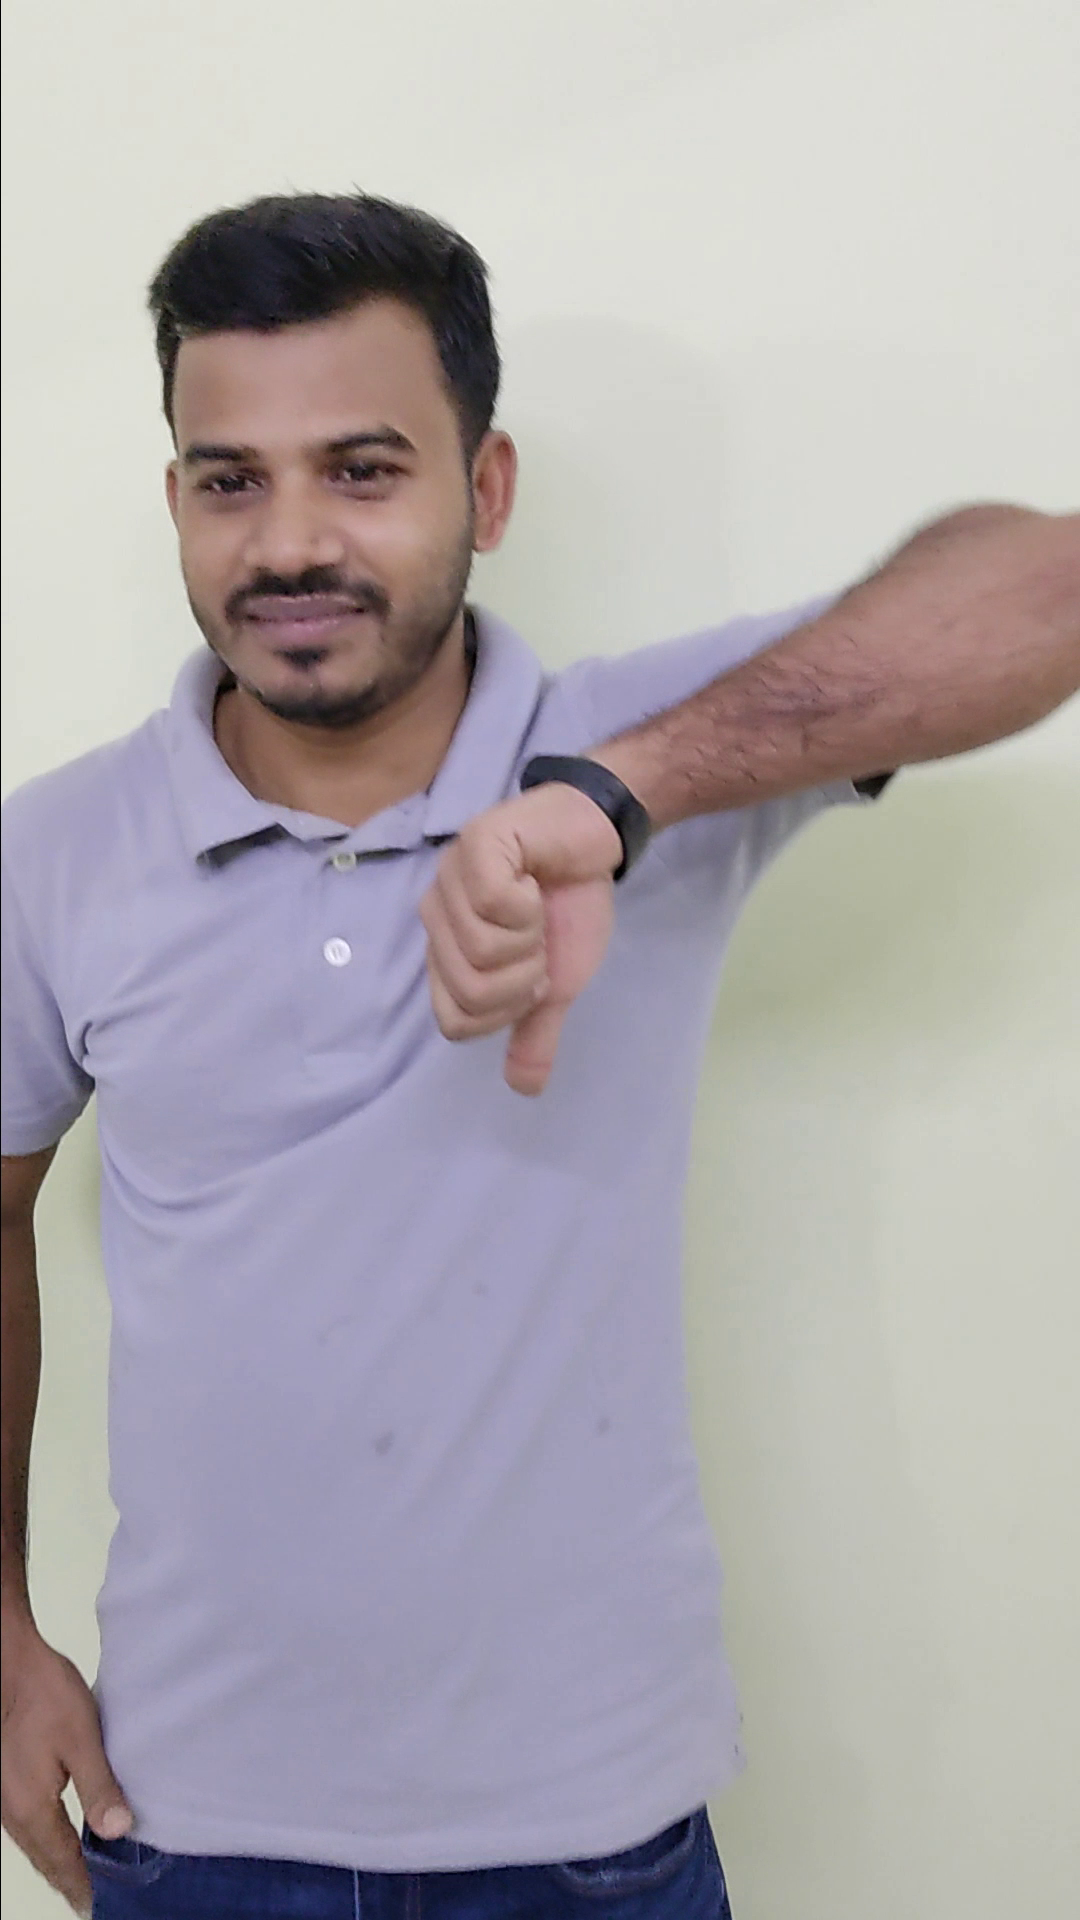Dislike: (413, 742, 640, 1110)
None: (0, 1600, 146, 1920)
